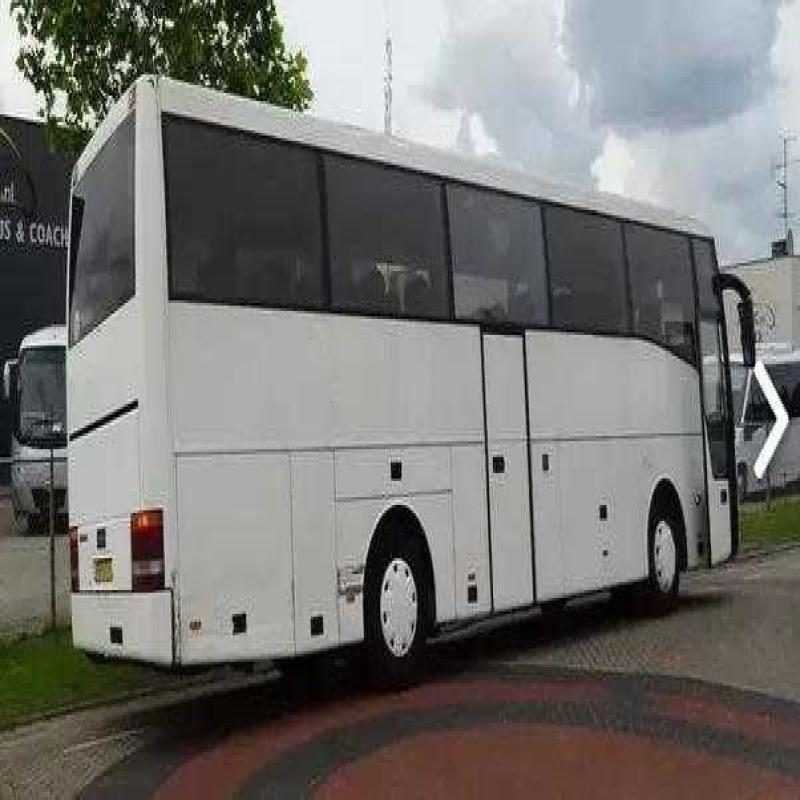bus: (45, 64, 795, 691)
